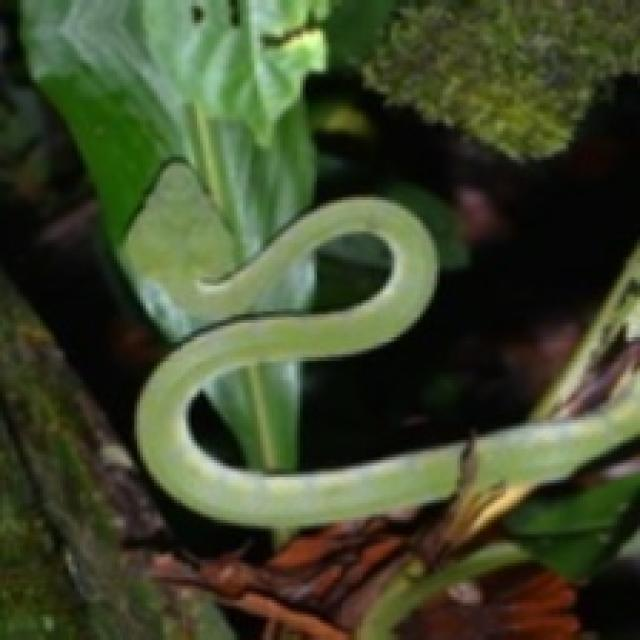north ph temple pitviper: (137, 197, 637, 526), (249, 231, 391, 317)
